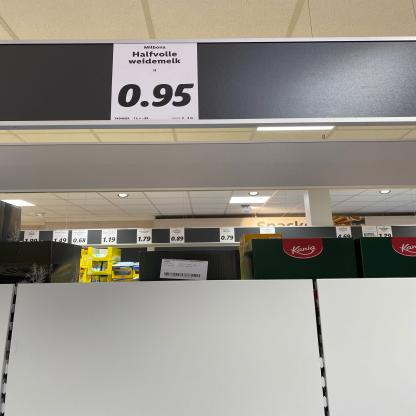prtg: (112, 44, 200, 121)
